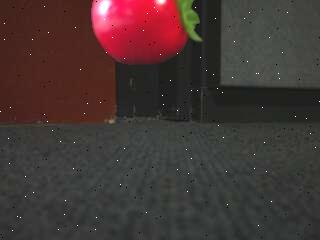Tomato: (92, 0, 204, 66)
